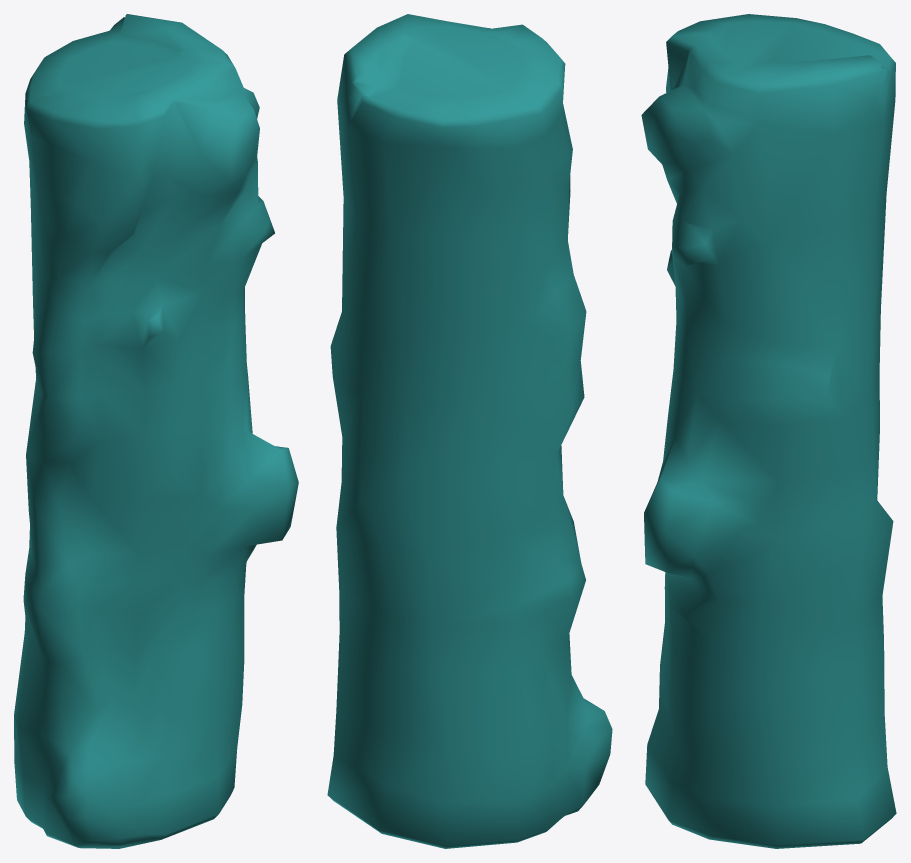
The model's file is log.FBX.
The picture shows the model from 3 angles, left to right: view 1: azimuth 30°, elevation 25°; view 2: azimuth 150°, elevation 25°; view 3: azimuth 270°, elevation 25°; orthographic projection. The views are drawn at different scales.
Visible parts, largest first — view 1: Cylinder001; view 2: Cylinder001; view 3: Cylinder001.
Part boxes in pixels (x1,y1,x2,y2): Cylinder001: (14, 14, 298, 848); Cylinder001: (327, 14, 612, 848); Cylinder001: (641, 14, 896, 848).
Bounding box in the file's own units: 31.87 × 101 × 29.62.
